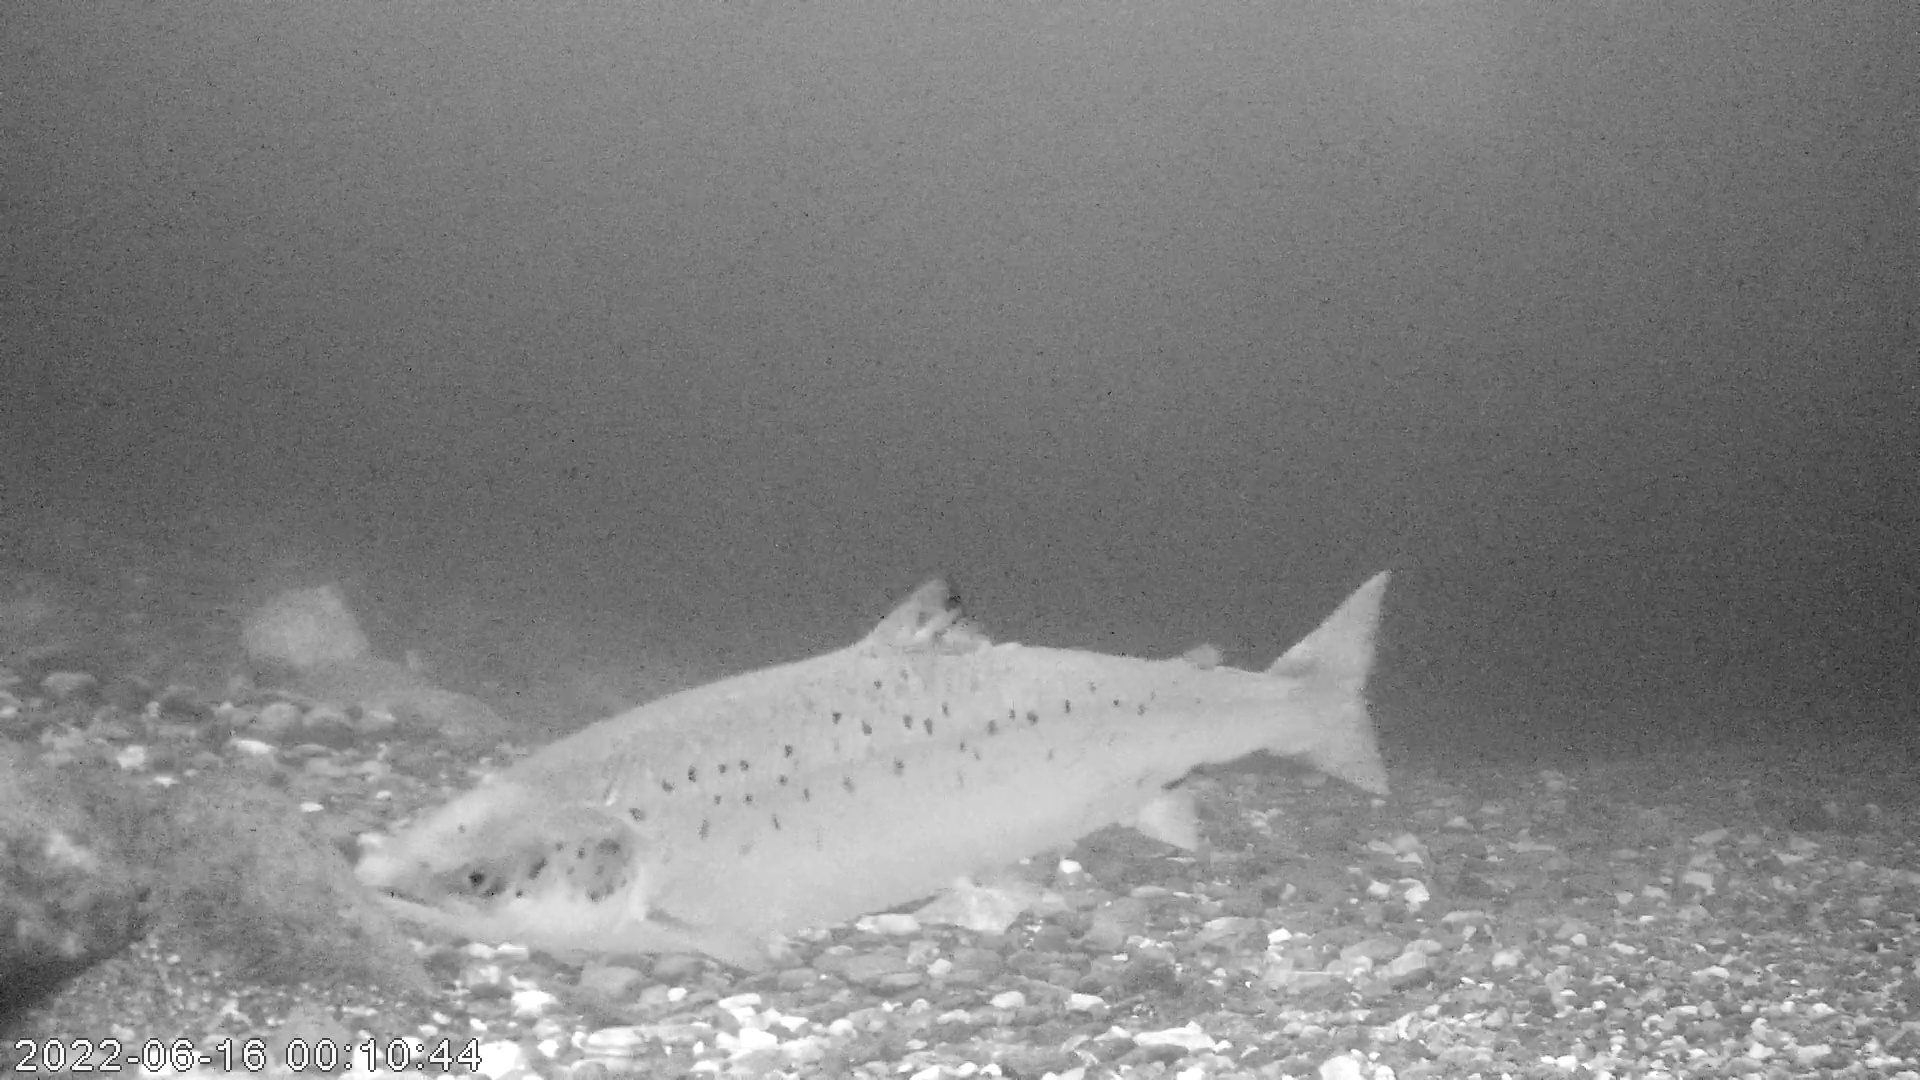salmon: (352, 560, 1396, 976)
